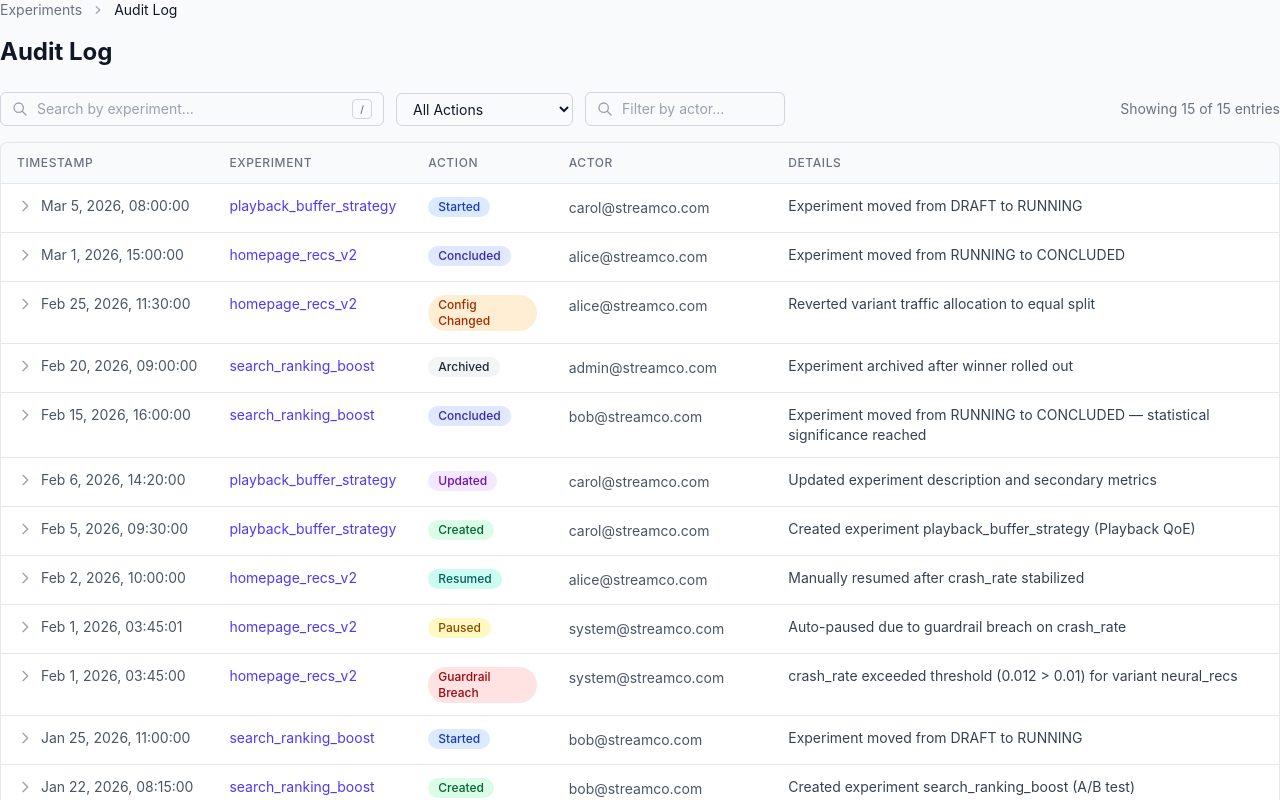
Test case: Audit Log Page › filter by action type works
Check: the heading "Audit Log" is shown, box [0,37,112,66]
Note: Filter by GUARDRAIL_BREACH
Select "Guardrail Breach" in the dropdown named "Filter by action" at (484, 109), box [396,92,573,126]
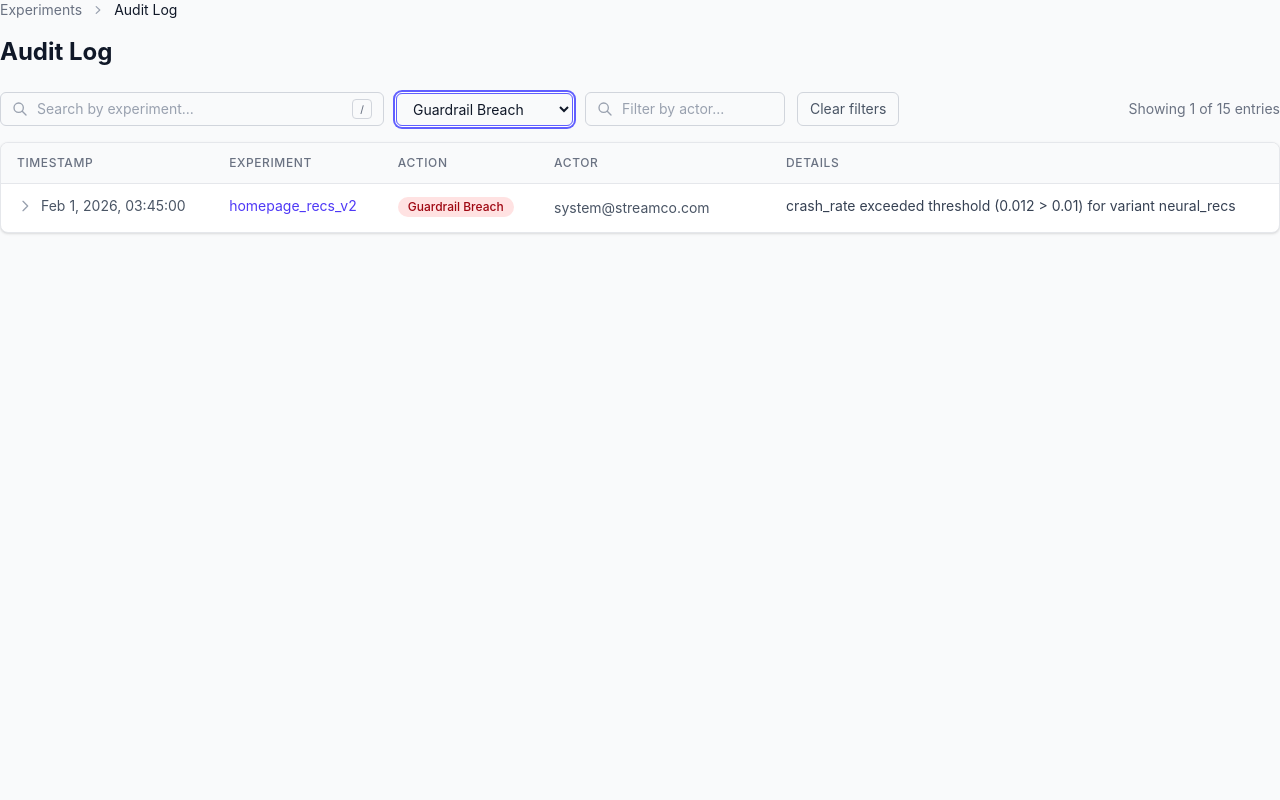
Check: the text with test id "audit-count" shows "1 of 15", box [1128,99,1279,119]
Check: the text with test id "action-badge-CREATED" is gone
Check: the text with test id "action-badge-STARTED" is gone
